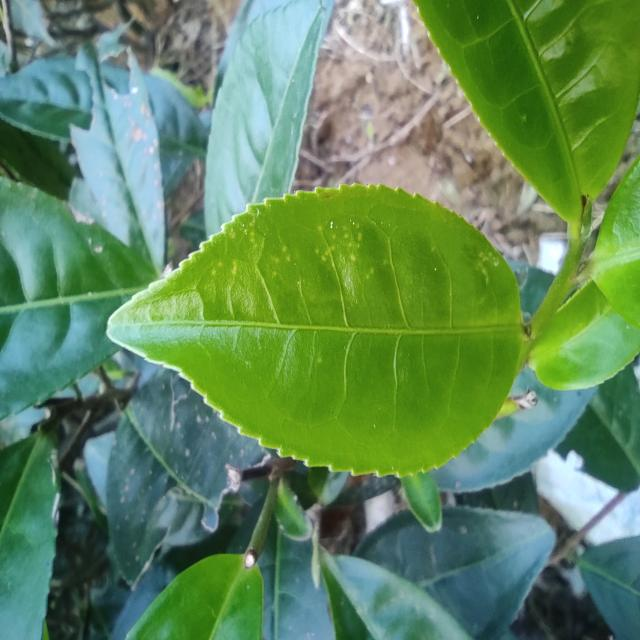Category C(4-7 days): (87, 177, 550, 494)
